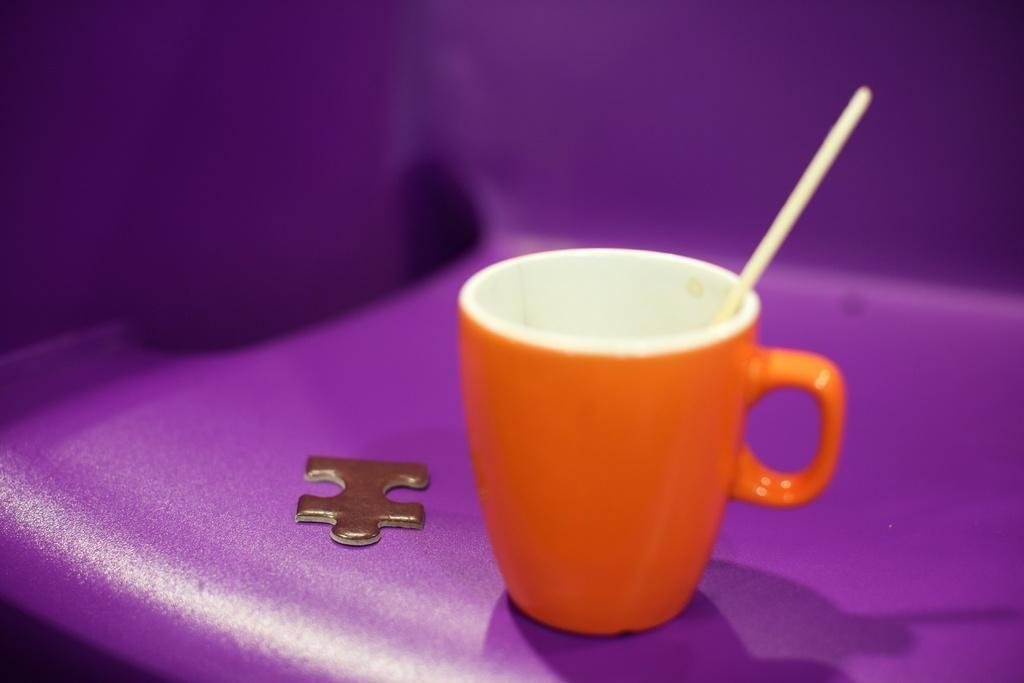cup-handle: (457, 243, 850, 636)
